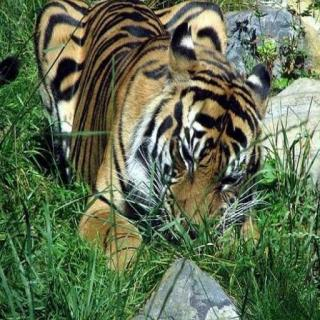Tiger: (26, 0, 284, 282)
